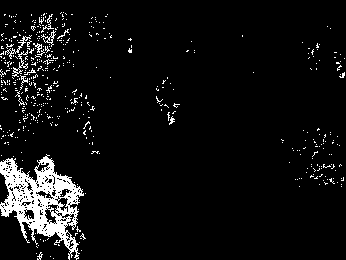person: (34, 155, 86, 260), (1, 153, 40, 260)
